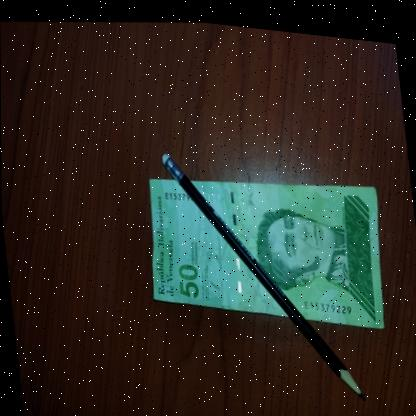fifty-front-vef: (138, 149, 392, 344)
